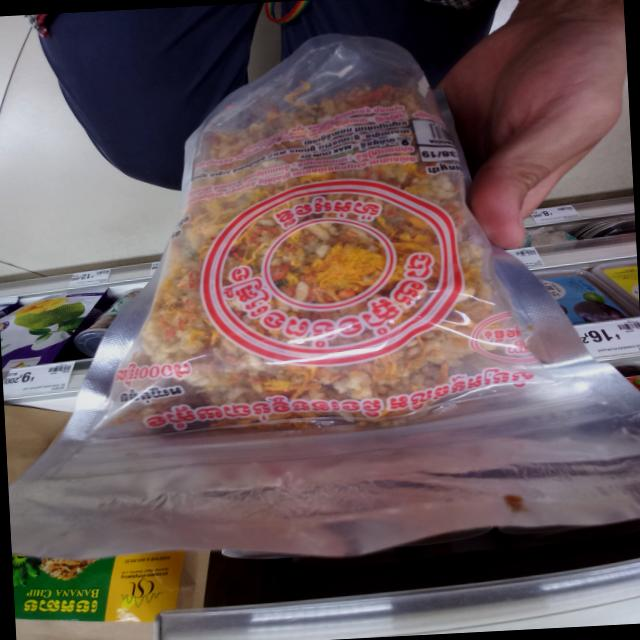602: (576, 325, 615, 345)
Yolov11_80vkh: (137, 367, 536, 438), (221, 248, 441, 351), (265, 193, 390, 234), (109, 357, 201, 389), (115, 380, 189, 409), (57, 598, 101, 615)
